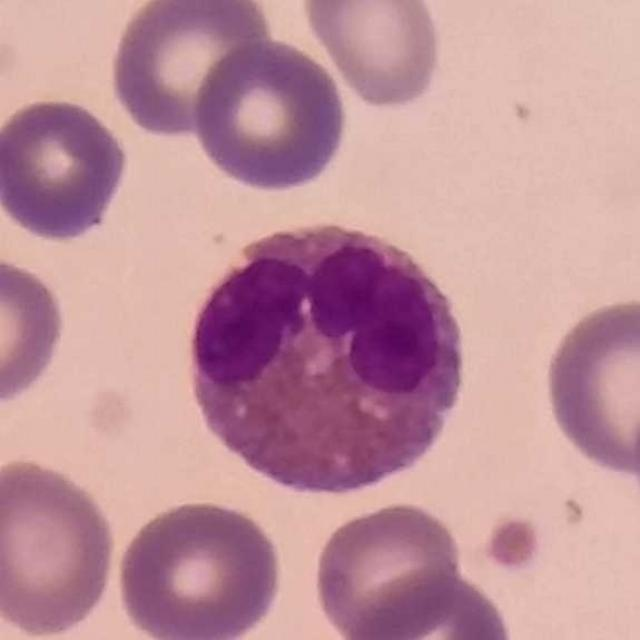Eosinophil: (173, 210, 480, 513)
Platelets: (482, 514, 544, 577)
RBC: (188, 36, 352, 196), (112, 495, 285, 640), (106, 0, 277, 140), (0, 452, 121, 640), (308, 497, 465, 640), (0, 92, 132, 244), (538, 291, 640, 483), (295, 0, 446, 111), (336, 567, 517, 640), (0, 250, 71, 412), (628, 385, 640, 532)
